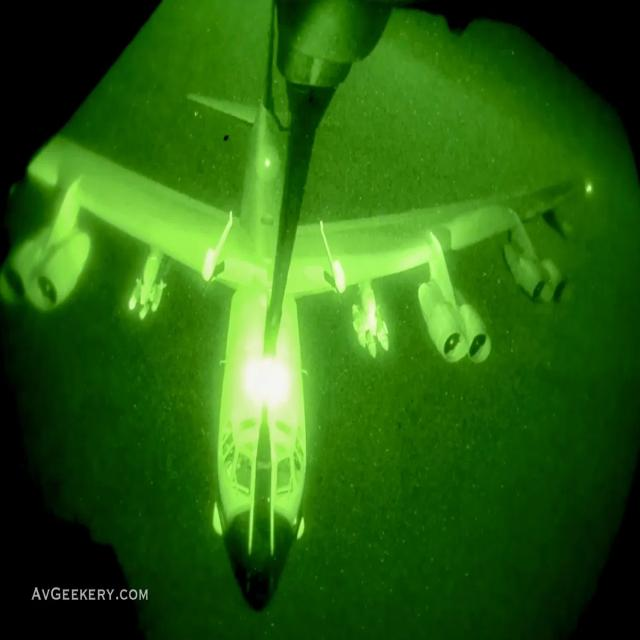MIL_Plane: (0, 0, 400, 420)
